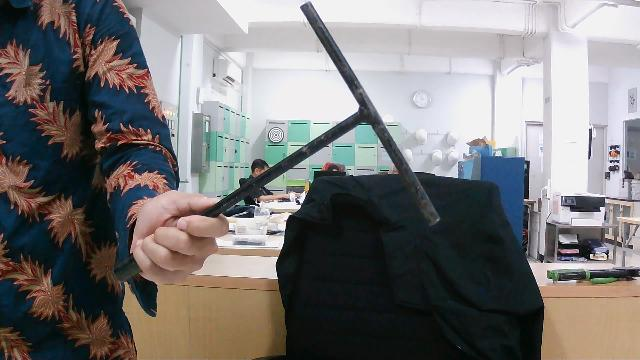kunci_t: (98, 0, 445, 285)
